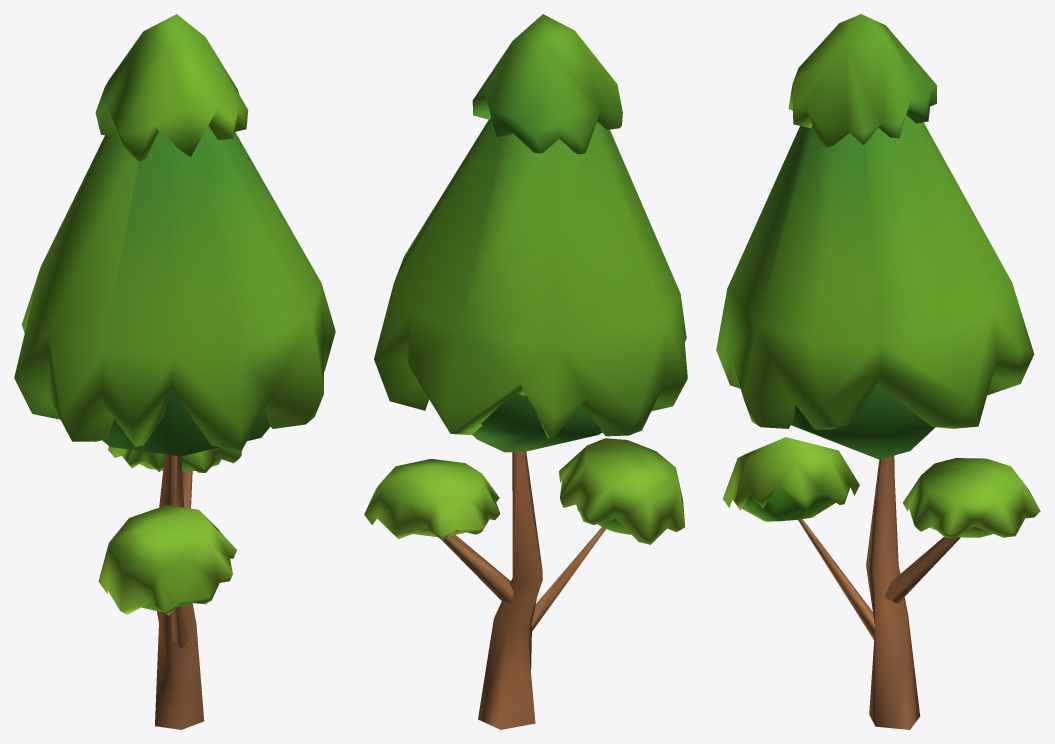
The model's file is SM_Tree_12_LOD_02.fbx.
The picture shows the model from 3 angles, left to right: view 1: azimuth 30°, elevation 25°; view 2: azimuth 150°, elevation 25°; view 3: azimuth 270°, elevation 25°; orthographic projection. The views are drawn at different scales.
Visible parts, largest first — view 1: tree12_LOD_02; view 2: tree12_LOD_02; view 3: tree12_LOD_02.
Part boxes in pixels (x1=…): tree12_LOD_02: x1=14, y1=14, x2=335, y2=729; tree12_LOD_02: x1=364, y1=14, x2=687, y2=729; tree12_LOD_02: x1=716, y1=14, x2=1040, y2=729.
Bounding box in the file's own units: 932 × 2370 × 1001.
Materials: 1 (1 with a texture image).
